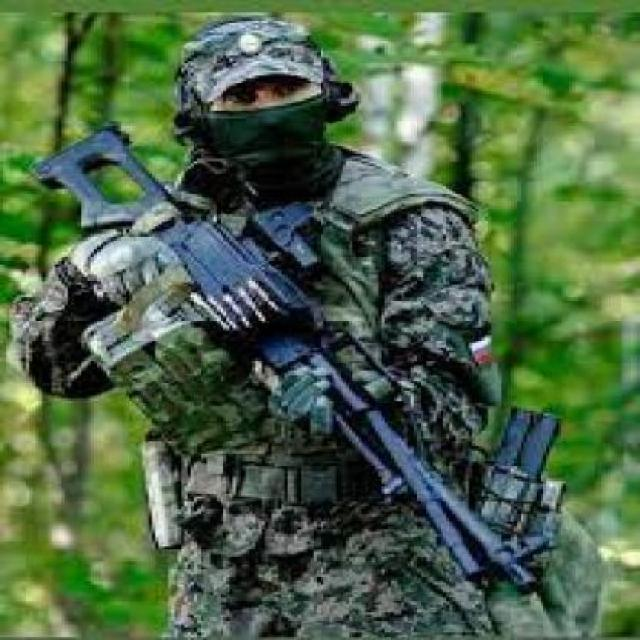weapon: (20, 93, 560, 604)
